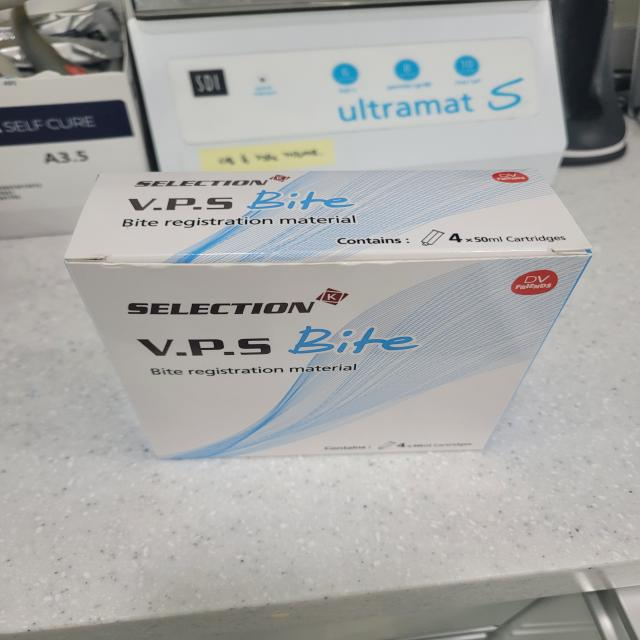impression: (52, 155, 603, 474)
